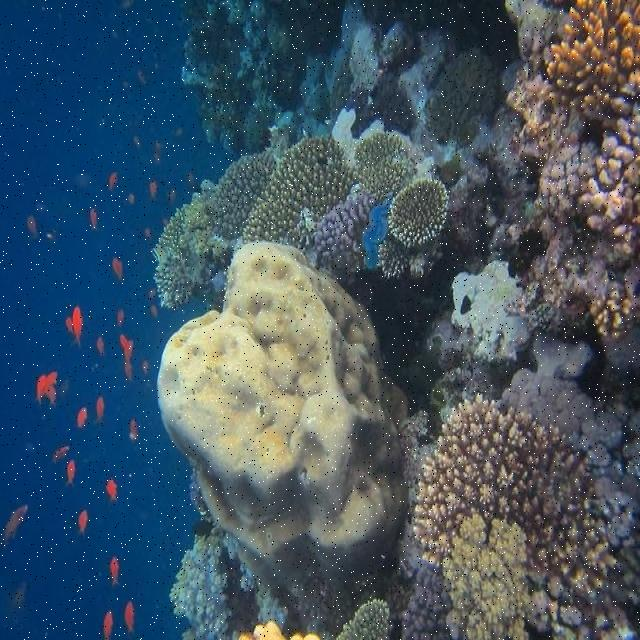fish: (1, 504, 28, 540), (35, 372, 57, 406), (72, 306, 83, 345), (51, 446, 70, 464), (124, 603, 134, 636), (103, 610, 113, 639), (105, 480, 118, 501), (110, 557, 119, 587), (66, 460, 75, 488), (95, 395, 104, 423), (90, 208, 100, 233), (78, 510, 87, 536), (120, 335, 129, 361), (46, 387, 56, 407), (112, 258, 122, 278), (77, 407, 87, 426), (125, 360, 133, 382), (108, 172, 117, 191), (130, 419, 137, 440), (116, 309, 124, 327), (27, 218, 35, 235), (65, 317, 73, 333), (97, 338, 104, 355), (150, 181, 156, 198), (127, 192, 135, 203), (128, 341, 133, 358), (151, 305, 157, 318), (145, 228, 151, 238), (149, 290, 156, 298), (171, 190, 175, 203), (143, 363, 147, 373), (156, 142, 160, 152)
reefs: (151, 0, 639, 339), (157, 242, 410, 592), (386, 368, 639, 638), (179, 0, 500, 158), (169, 466, 392, 639)
